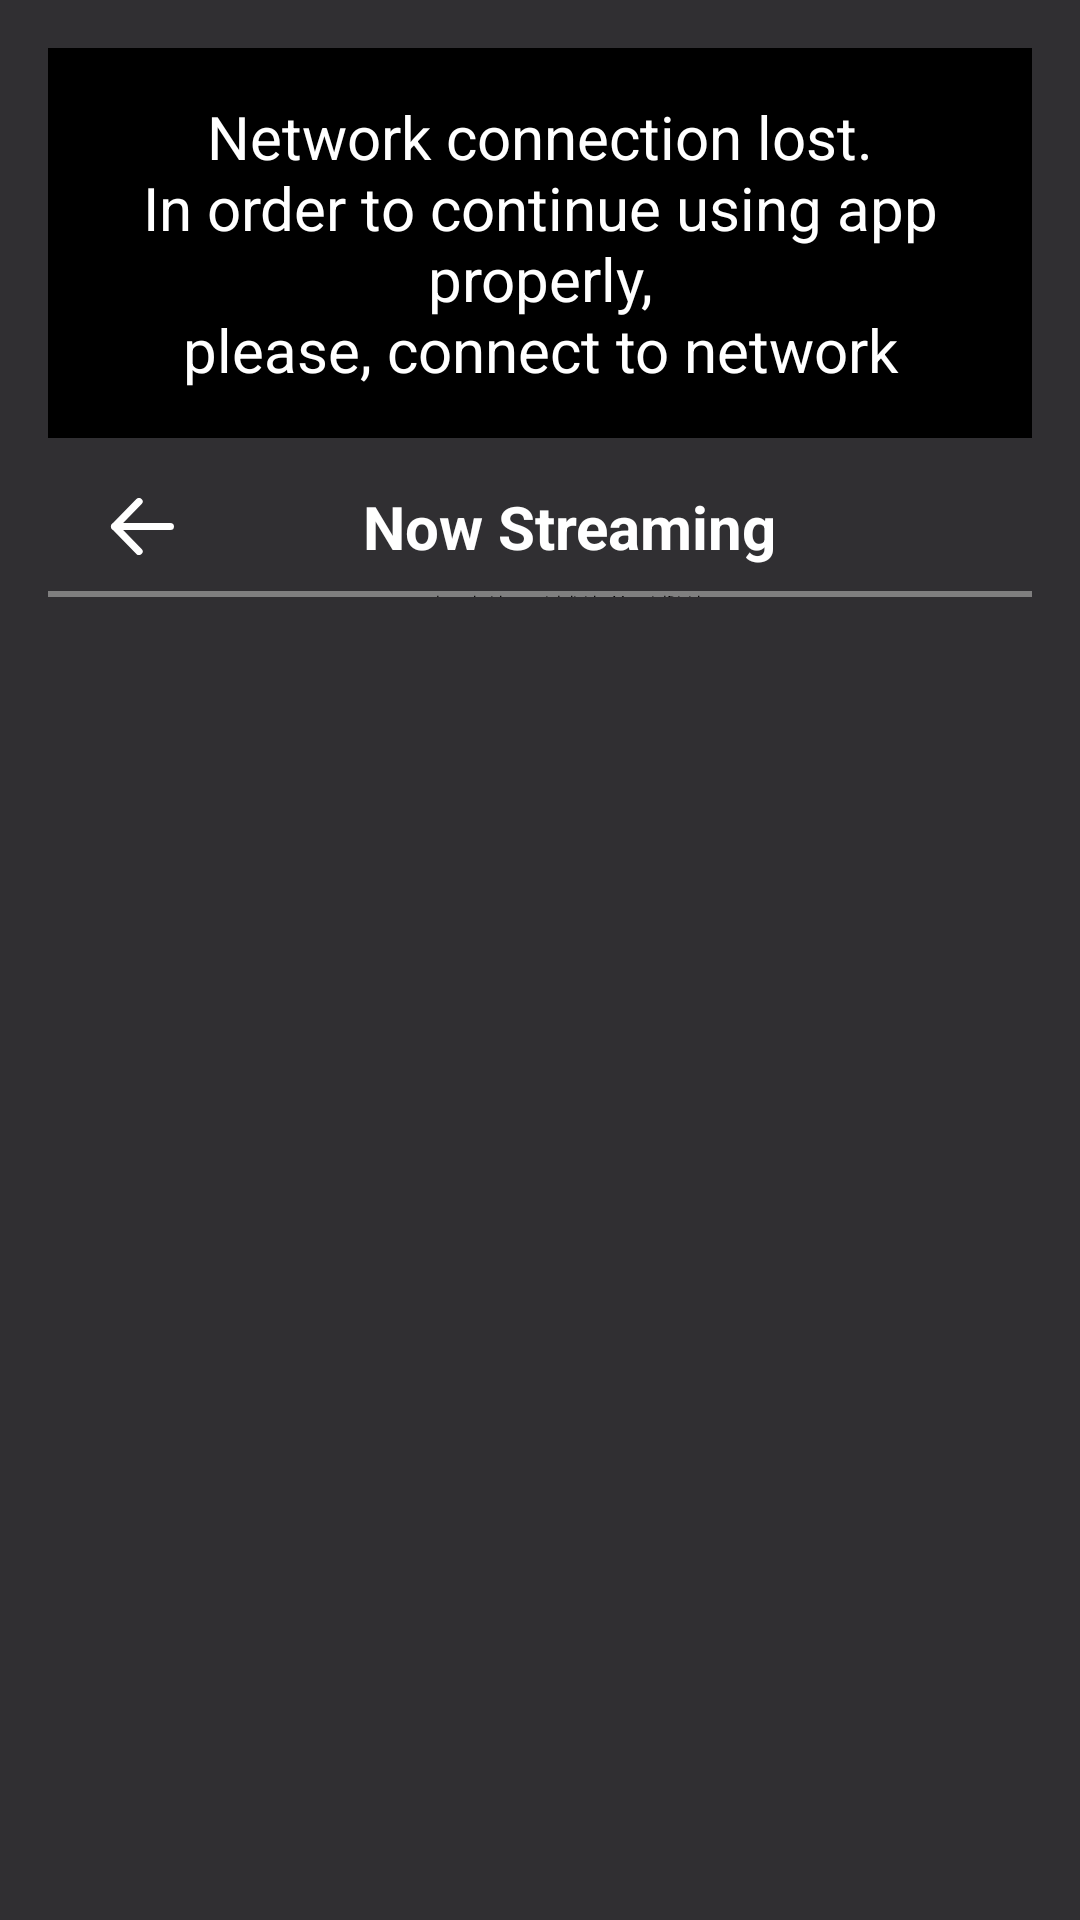

Icons on this 1080w x 1920h Android screen, each with the point to tap as [x,y]:
back: [142,526]
